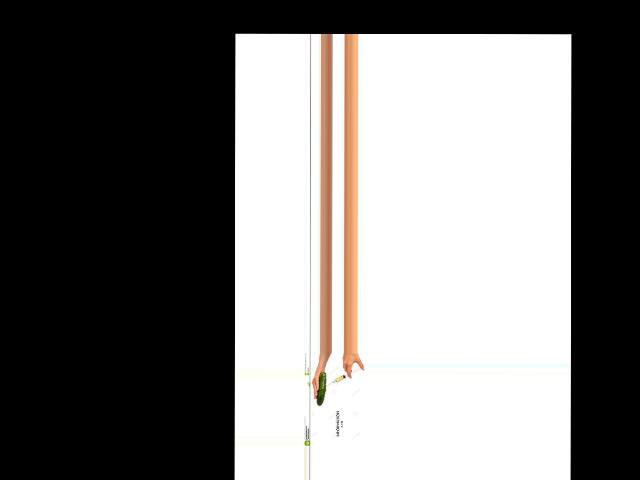cucumber: (316, 371, 325, 405)
